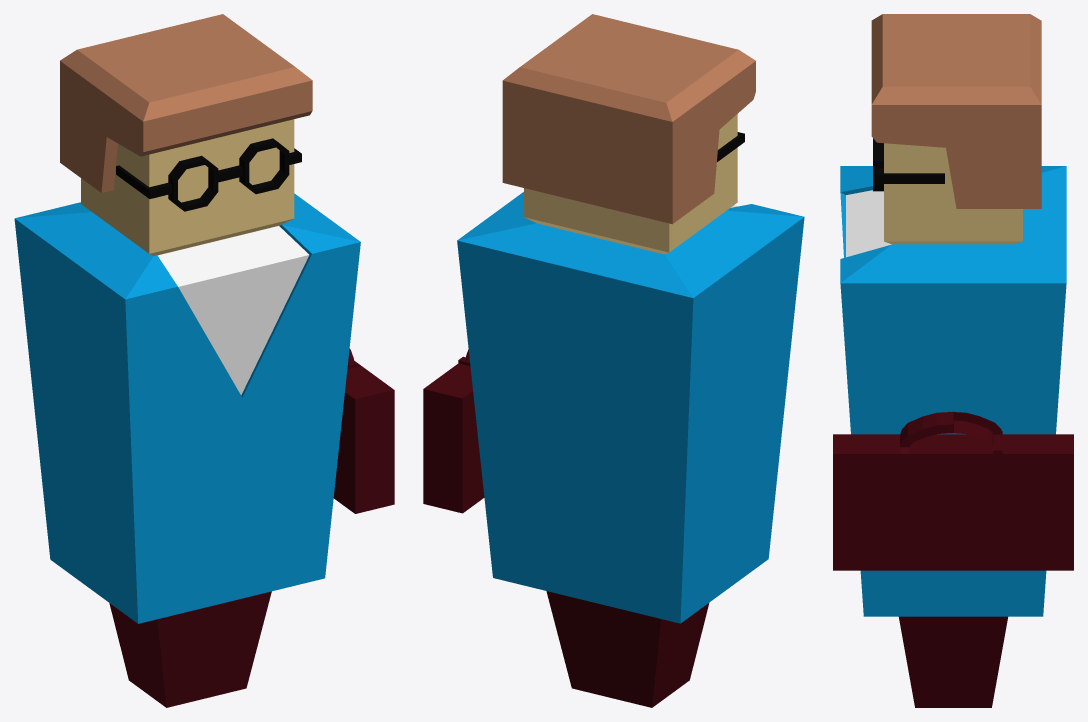
File: Человек №11.fbx
3 renders of one model, left to right at view 1: azimuth 30°, elevation 25°; view 2: azimuth 150°, elevation 25°; view 3: azimuth 270°, elevation 25°, orthographic. The views are drawn at different scales.
Parts seen in each view (by area): view 1: Cube; view 2: Cube; view 3: Cube.
Boxes of the visible parts, x1,y1,x2,y2 form: Cube: [14, 14, 394, 707]; Cube: [423, 14, 804, 707]; Cube: [833, 14, 1073, 707].
Bounding box in the file's own units: 225 × 507 × 174.
Materials: 1 (1 with a texture image).
